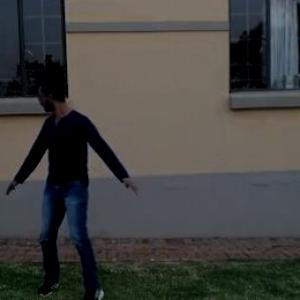land: (0, 62, 138, 299)
